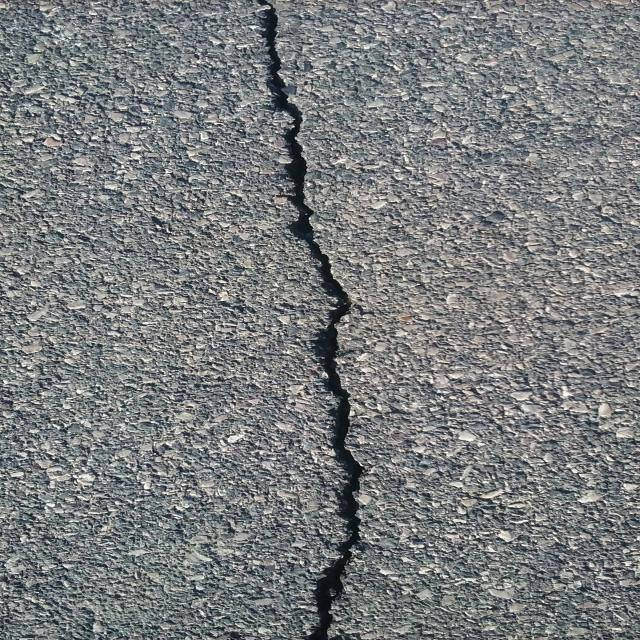Longitudial: (209, 0, 474, 640)
